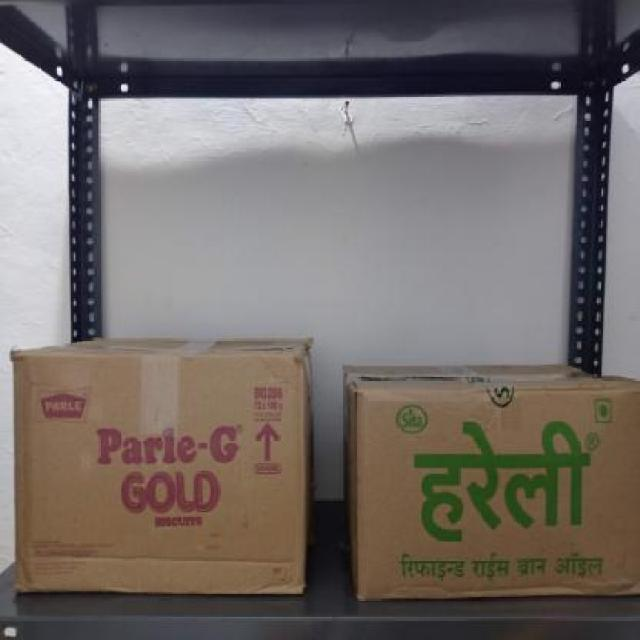box: (10, 349, 309, 589), (352, 388, 640, 597)
